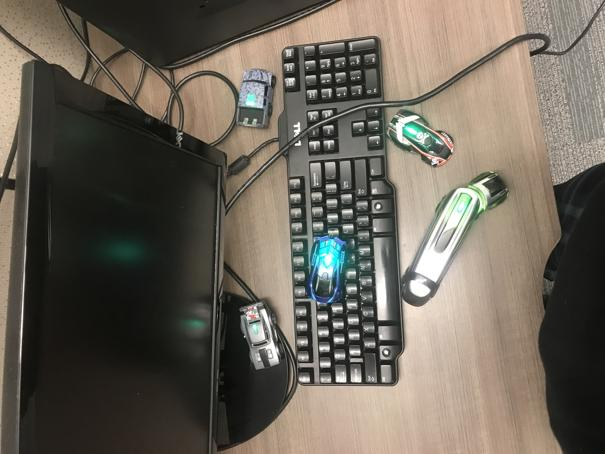Charger: (238, 299, 286, 370)
Freewheel: (399, 170, 509, 307)
MXT: (236, 68, 275, 130)
Shock: (307, 236, 348, 305)
Skull: (385, 109, 457, 169)
